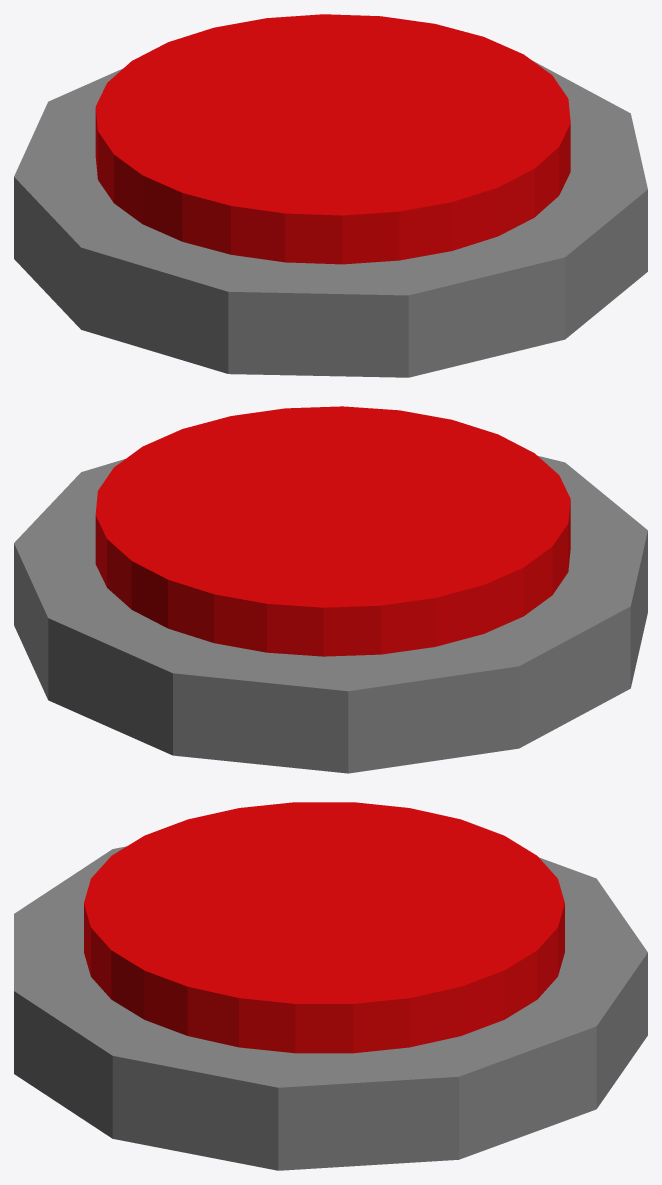
Rendered from boton.fbx.
3 renders of one model, top to bottom at view 1: azimuth 30°, elevation 25°; view 2: azimuth 150°, elevation 25°; view 3: azimuth 270°, elevation 25°, orthographic.
Parts seen in each view (by area): view 1: Cylinder.001, Cylinder; view 2: Cylinder.001, Cylinder; view 3: Cylinder.001, Cylinder.
Boxes of the visible parts, x1,y1,x2,y2 form: Cylinder.001: [95, 14, 570, 264]; Cylinder: [14, 60, 647, 377]; Cylinder.001: [95, 406, 570, 656]; Cylinder: [14, 456, 647, 773]; Cylinder.001: [84, 802, 564, 1053]; Cylinder: [14, 846, 647, 1170].
Bounding box in the file's own units: 224 × 51.02 × 221.
